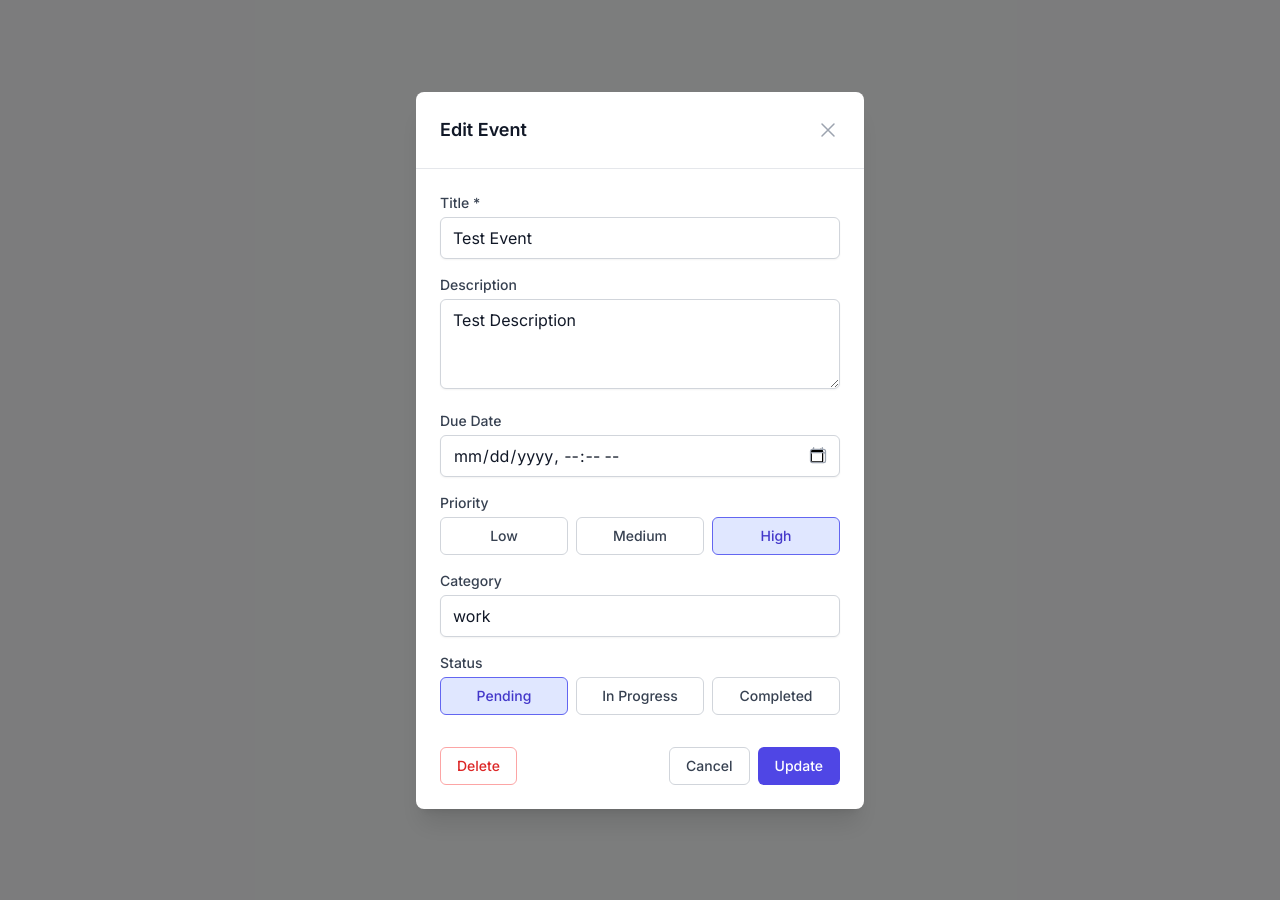
Test: CalendarEventModal › should handle delete errors
Click the button "Delete".
click(478, 766)  # box [440,746,517,784]
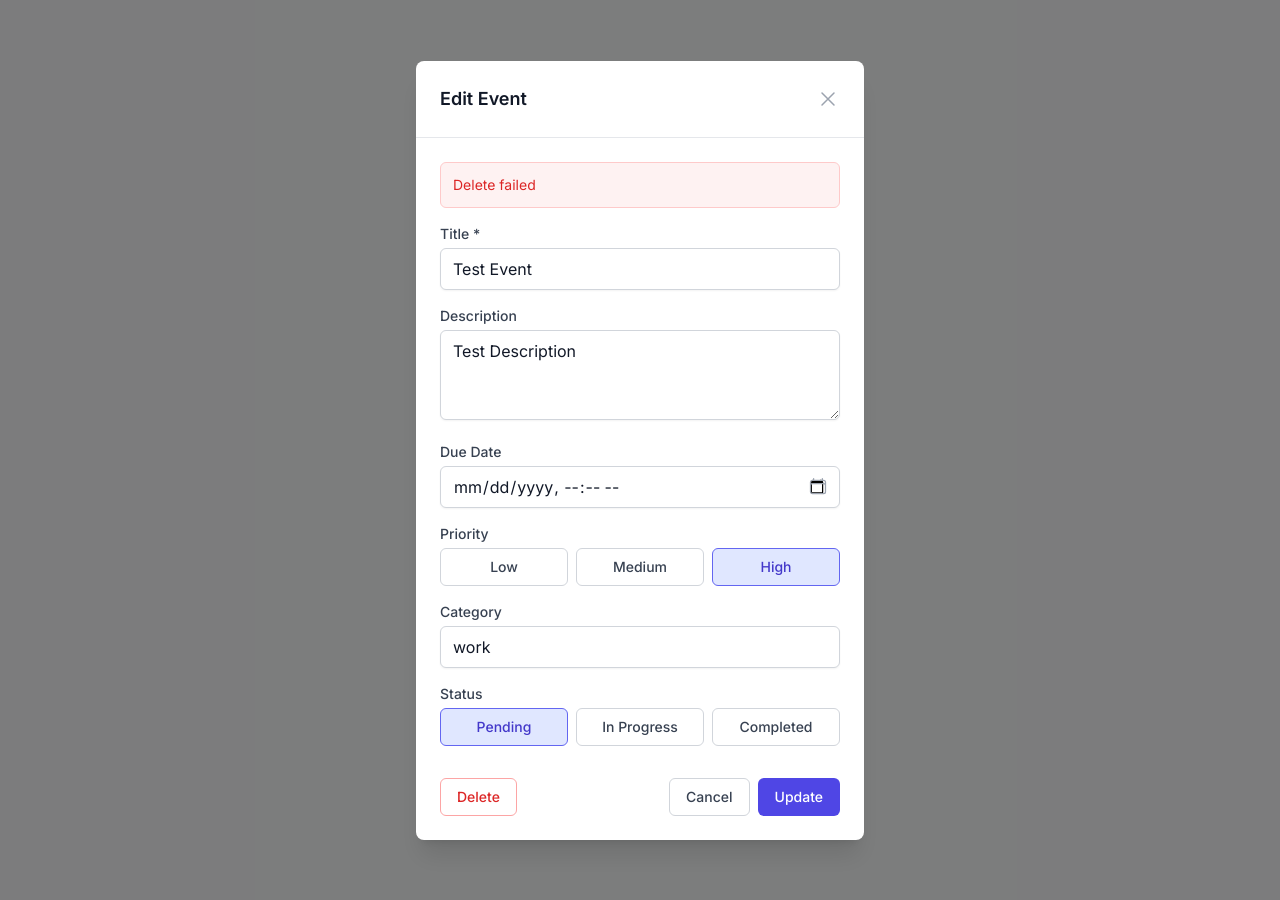
Expected: the text "Delete failed" is shown, [453,176,536,192]
